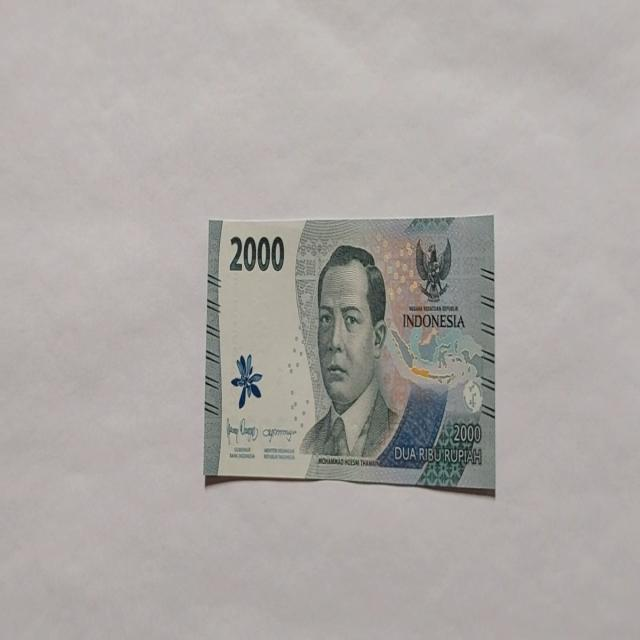dua ribu rupiah: (203, 213, 494, 491), (298, 242, 401, 462)
